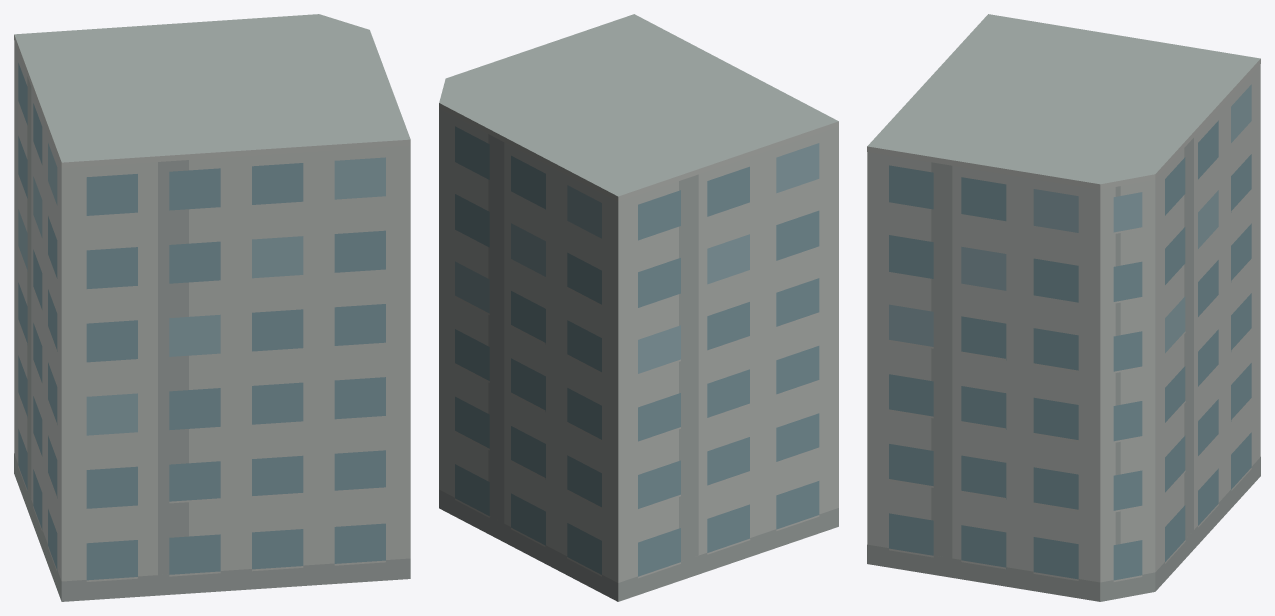
The model's file is survey-upis-33030382.glb.
3 renders of one model, left to right at view 1: azimuth 30°, elevation 25°; view 2: azimuth 150°, elevation 25°; view 3: azimuth 270°, elevation 25°, orthographic. The views are drawn at different scales.
Parts seen in each view (by area): view 1: survey-upis-33030382.tmp; view 2: survey-upis-33030382.tmp; view 3: survey-upis-33030382.tmp.
Boxes of the visible parts, box(x1,y1,x2,y2) form: survey-upis-33030382.tmp: box(14, 14, 410, 601); survey-upis-33030382.tmp: box(439, 14, 838, 601); survey-upis-33030382.tmp: box(867, 14, 1260, 601).
Size of the model in its own units: 16.28 by 18.6 by 15.9.
